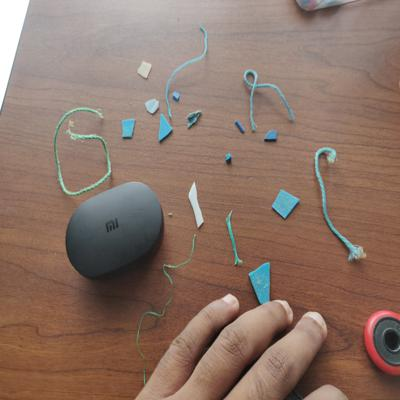plastic: (245, 258, 282, 308), (184, 177, 208, 232), (271, 184, 304, 223), (156, 112, 175, 144), (259, 124, 283, 147), (182, 108, 206, 130), (134, 59, 154, 82), (121, 115, 138, 140), (234, 116, 251, 140), (143, 95, 161, 114), (169, 88, 185, 106), (223, 150, 237, 167)
thread: (124, 233, 208, 387), (312, 145, 386, 266), (49, 102, 116, 197), (157, 19, 210, 121), (241, 64, 300, 126), (224, 206, 245, 272)
